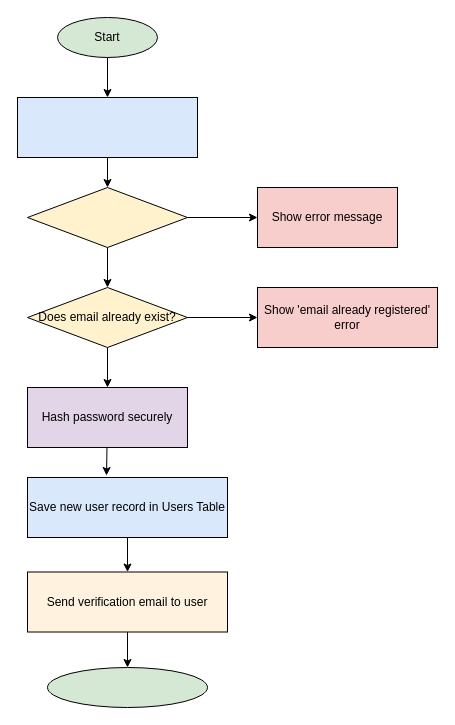
This 455x725 diagram has some shape labels left out. Each missing label, with the centre of its shape:
End (Registration Successful): the point at 127,687
User enters registration details (name, email, password): the point at 107,127
Validate inputs (format, required fields): the point at 107,217
